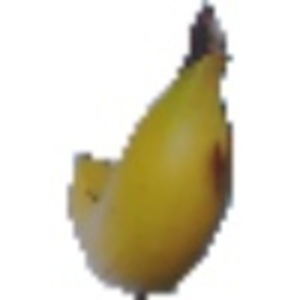banana: (59, 6, 247, 293)
